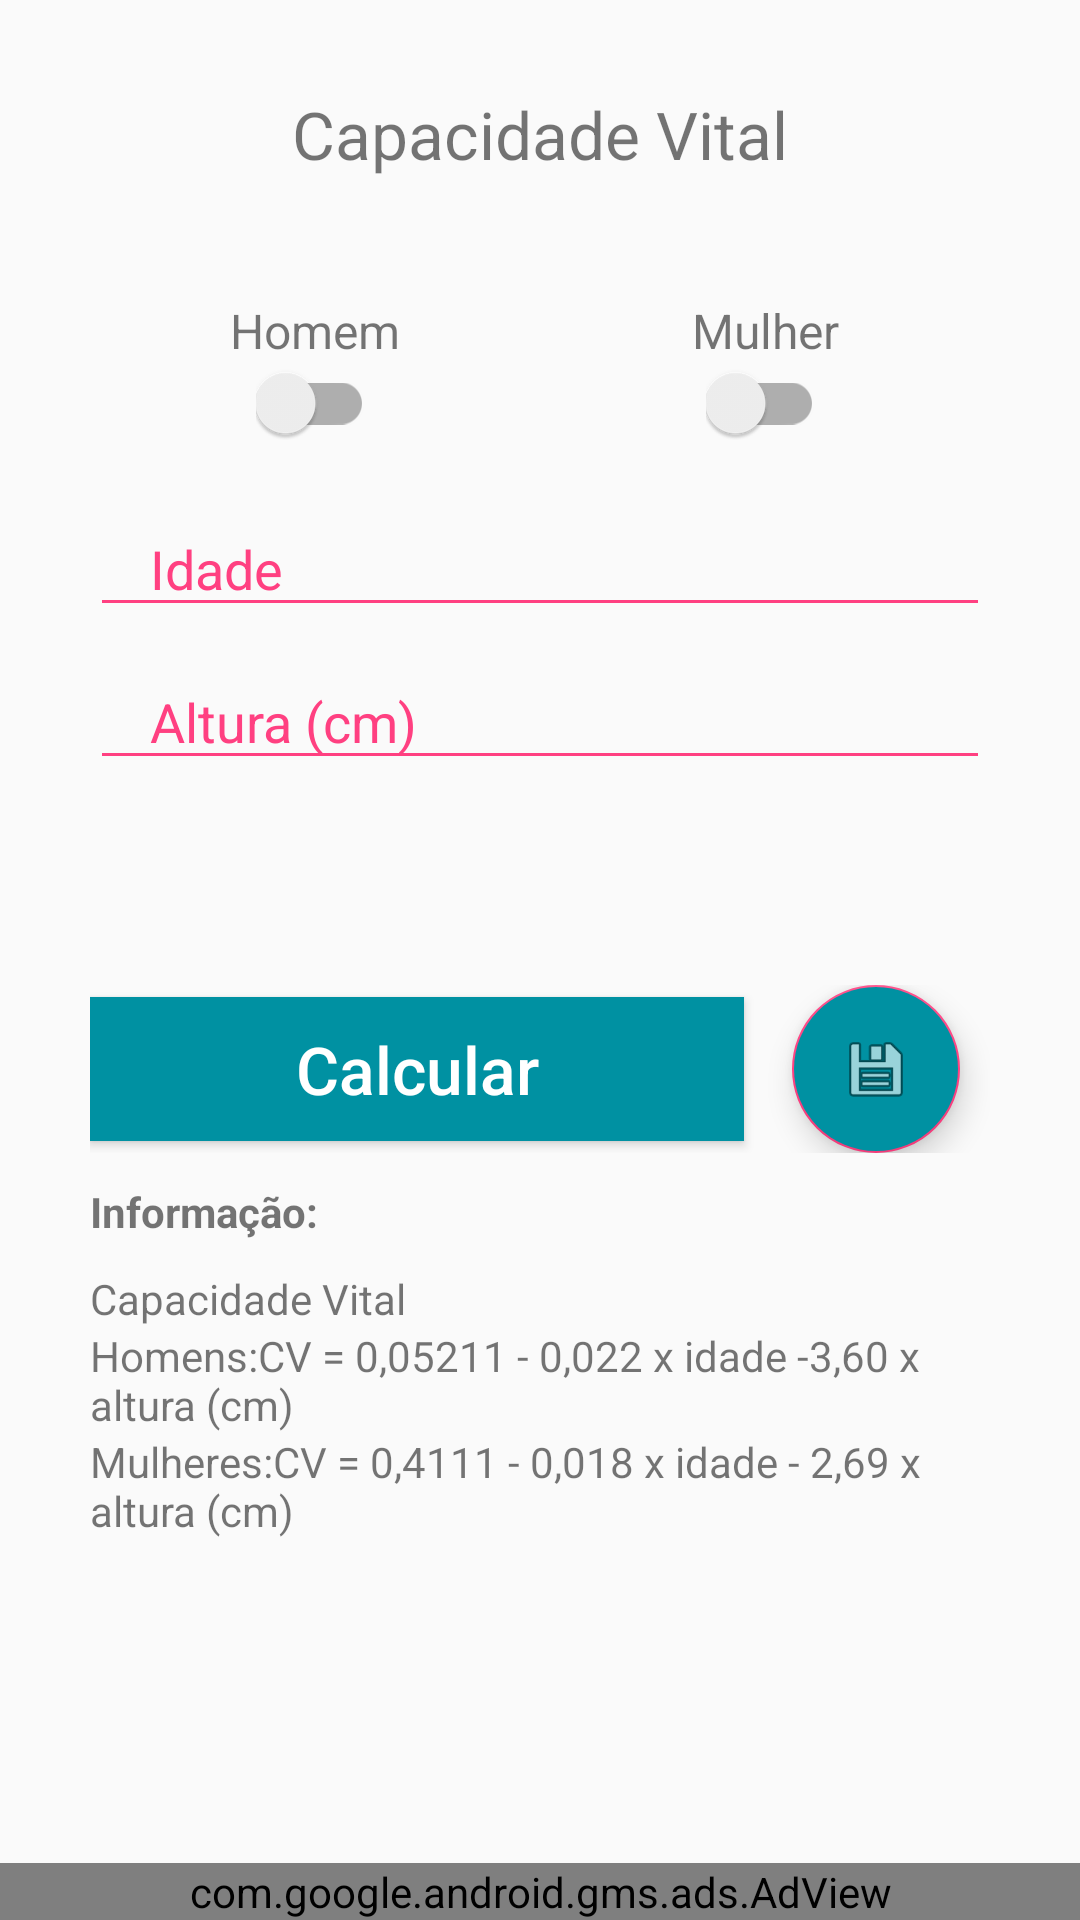

Icons on this 1080w x 1920h Android screen, each with its box as (x1, y1, x2, y2):
save: (792, 985, 960, 1153)
